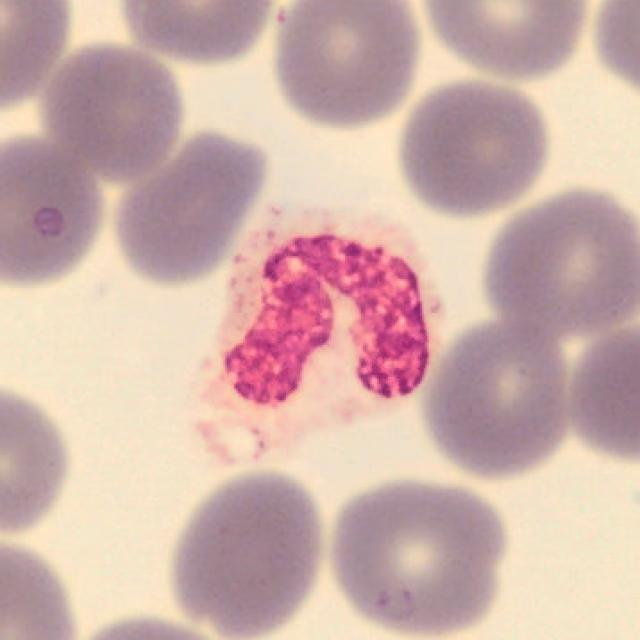Neutrofilo segmentado: (193, 208, 445, 464)
